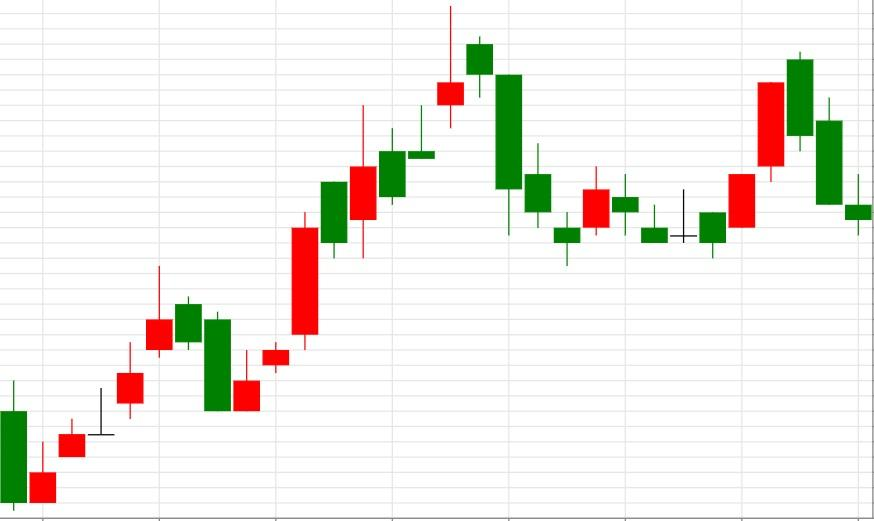three_white_soldiers_rise: (174, 209, 319, 412)
